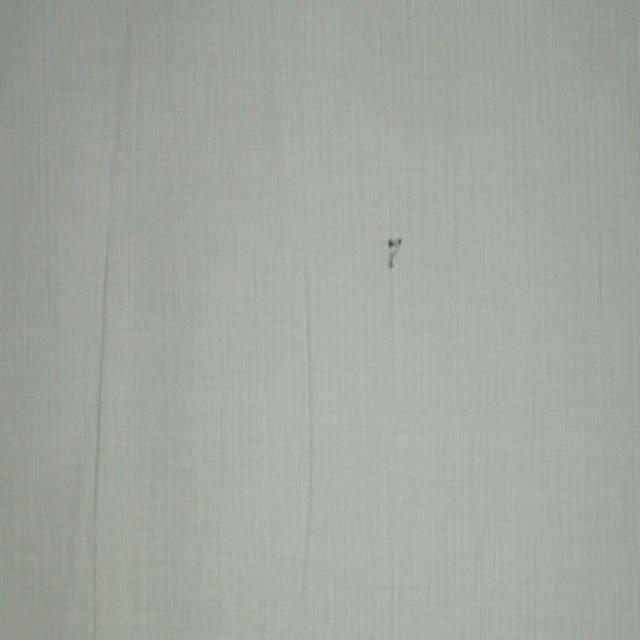dirty: (388, 238, 402, 270)
